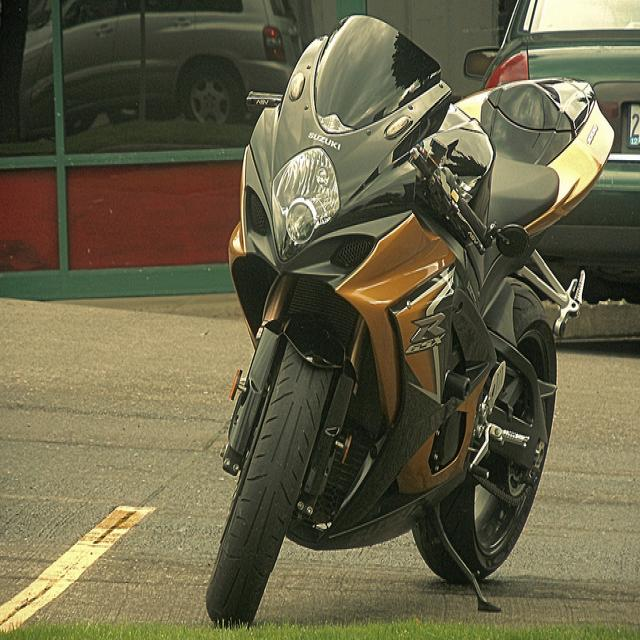motor: (190, 10, 616, 627)
